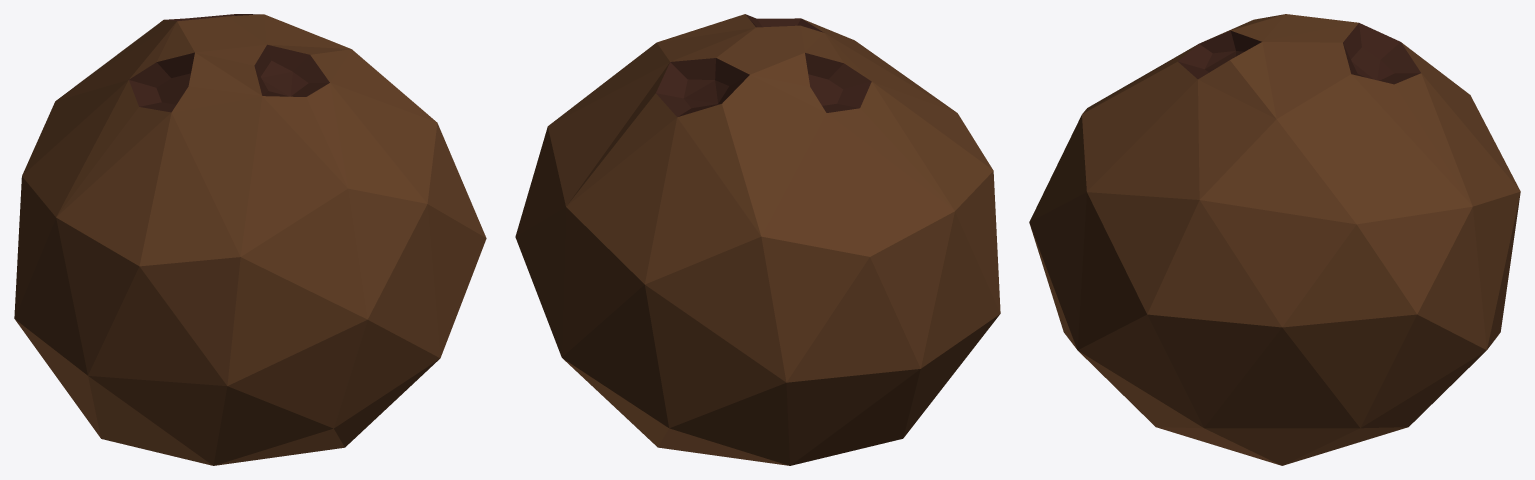
File: Coconut2.fbx
3 views of the same model, side by side, from view 1: azimuth 30°, elevation 25°; view 2: azimuth 150°, elevation 25°; view 3: azimuth 270°, elevation 25° (orthographic).
Parts seen in each view (by area): view 1: Icosphere.001; view 2: Icosphere.001; view 3: Icosphere.001.
Part boxes in pixels (bbox=[...]): Icosphere.001: bbox=[14, 14, 486, 465]; Icosphere.001: bbox=[515, 14, 1000, 465]; Icosphere.001: bbox=[1029, 14, 1520, 465].
Size of the model in its own units: 21.3 by 22.37 by 20.47.
